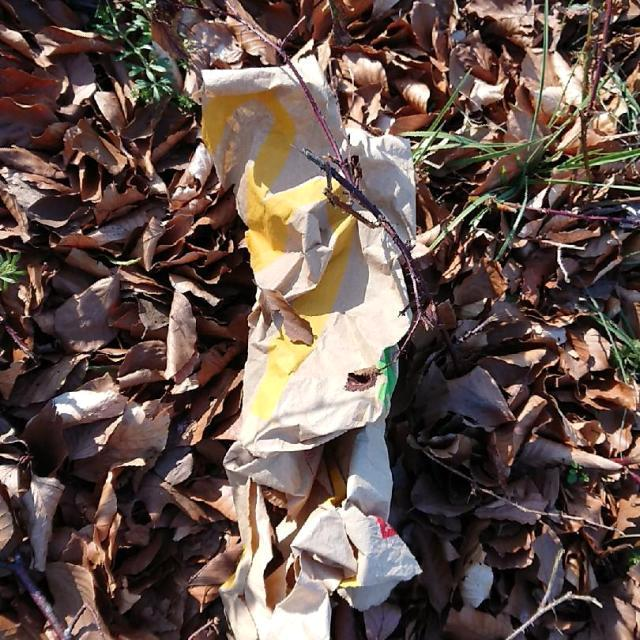Paper: (195, 55, 418, 640)
